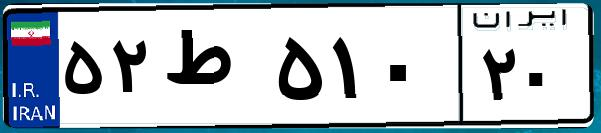0: (385, 28, 445, 110), (525, 38, 570, 115)
1: (330, 28, 385, 110)
2: (475, 38, 525, 113), (110, 28, 158, 98)
5: (270, 28, 330, 110), (57, 26, 110, 100)
ط: (158, 20, 270, 120)
